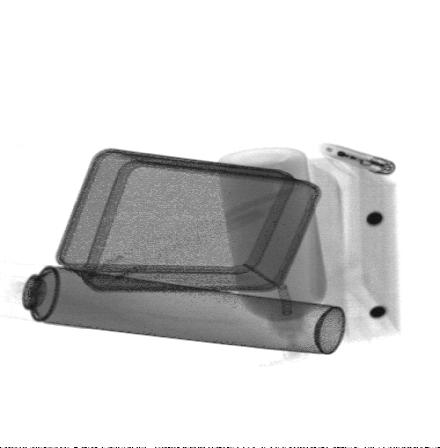Lighter: (320, 140, 398, 177)
Sprayer: (0, 263, 346, 357)
